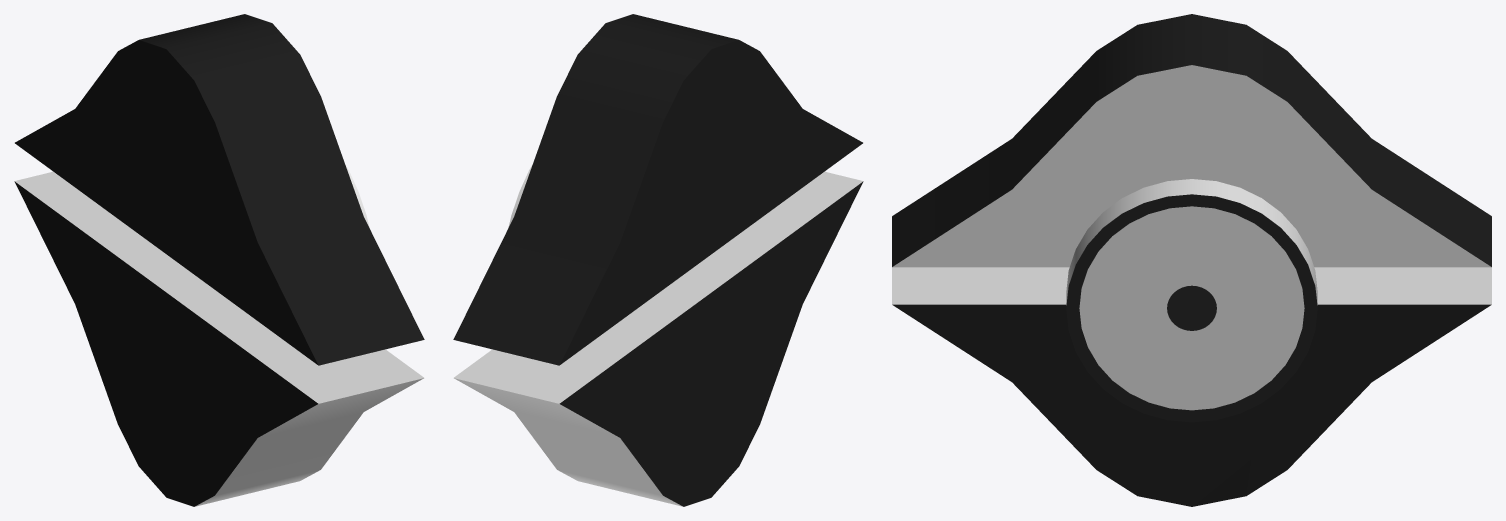
File: Target Shards.fbx
The picture shows the model from 3 angles, left to right: view 1: azimuth 30°, elevation 25°; view 2: azimuth 150°, elevation 25°; view 3: azimuth 270°, elevation 25°; orthographic projection.
Visible parts, largest first — view 1: Cylinder.002, Cylinder.003; view 2: Cylinder.002, Cylinder.003; view 3: Cylinder.002, Cylinder.003, Cylinder.001.
Part boxes in pixels (box(x1,y1,x2,y2)): Cylinder.002: box(15, 14, 424, 365); Cylinder.003: box(14, 171, 423, 506); Cylinder.002: box(453, 14, 862, 365); Cylinder.003: box(454, 171, 863, 506); Cylinder.002: box(892, 14, 1491, 267); Cylinder.003: box(892, 267, 1491, 506); Cylinder.001: box(1066, 179, 1317, 422).
Size of the model in its own units: 133 by 388 by 477.
